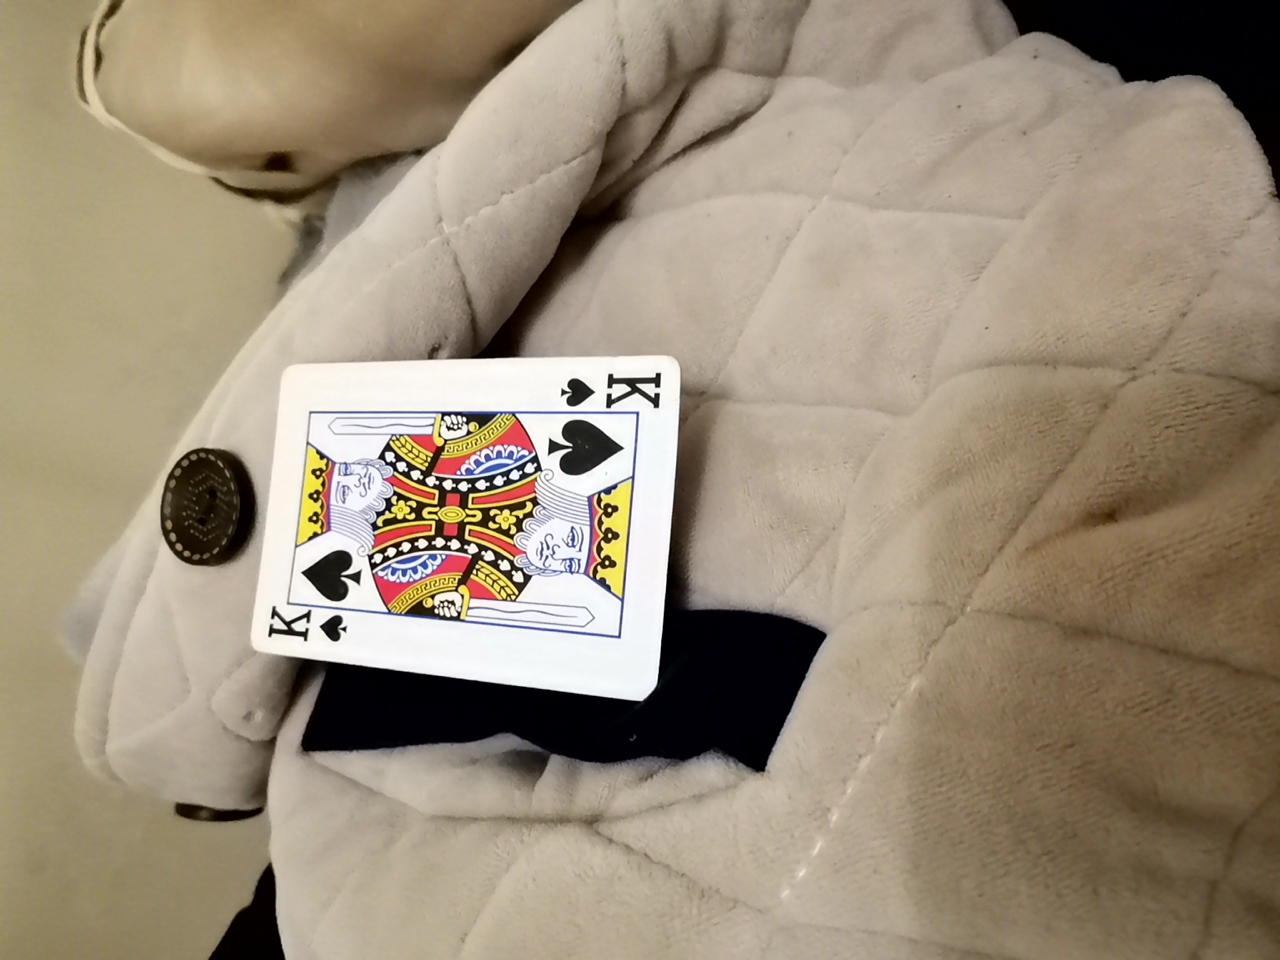ht k: (243, 352, 685, 694)
